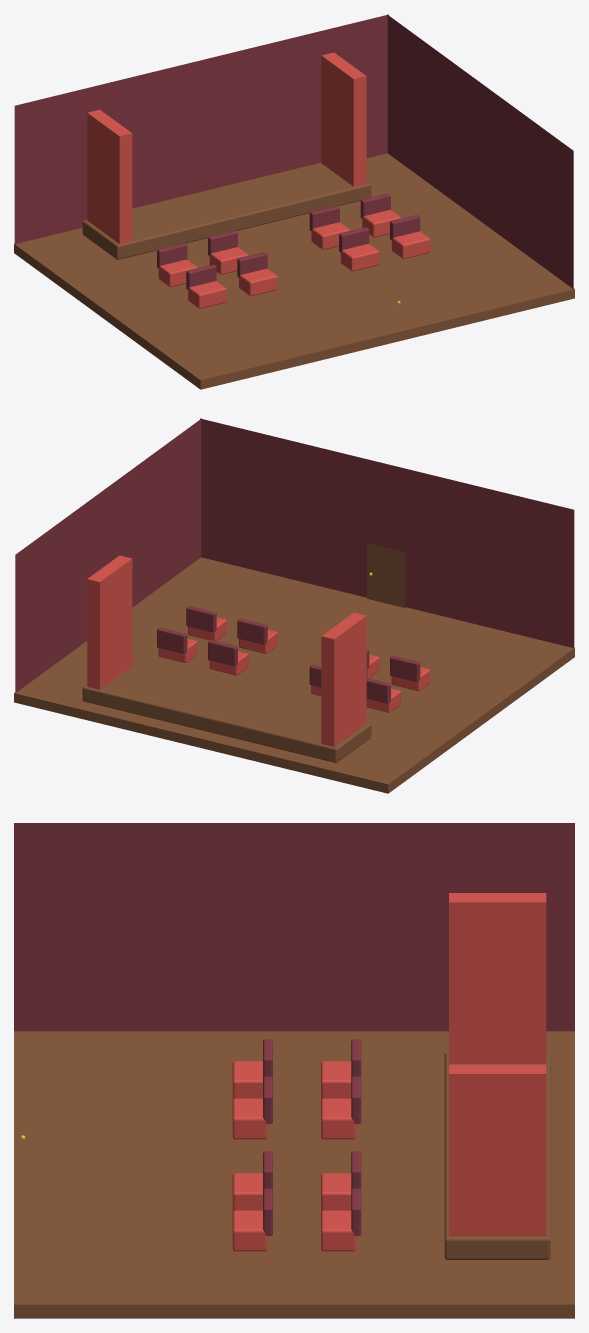
Rendered from room_opera.glb.
3 views of the same model, one above another, from view 1: azimuth 30°, elevation 25°; view 2: azimuth 150°, elevation 25°; view 3: azimuth 270°, elevation 25° (orthographic). The views are drawn at different scales.
Visible parts, largest first — view 1: RoomO; view 2: RoomO; view 3: RoomO.
Boxes of the visible parts, bbox=[...] form: RoomO: bbox=[14, 14, 574, 389]; RoomO: bbox=[14, 418, 574, 793]; RoomO: bbox=[14, 823, 574, 1318].
Bounding box in the file's own units: 14.7 × 5.55 × 12.7.
